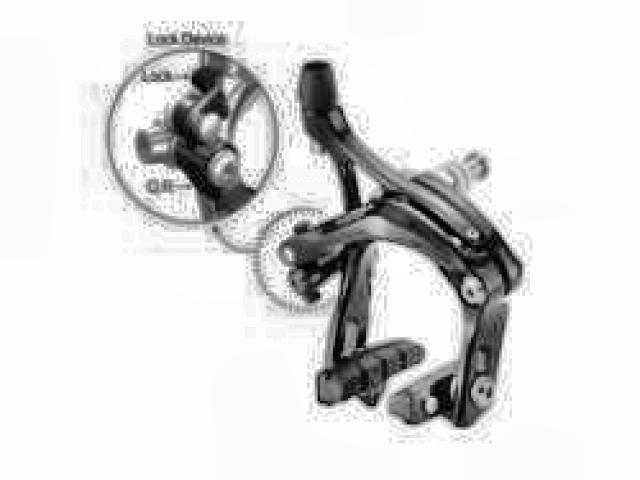rim_brake: (278, 60, 526, 432)
